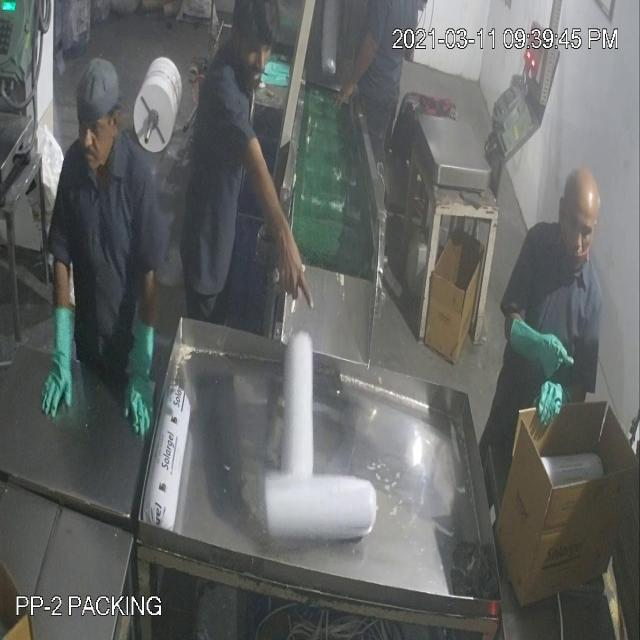gloves: (508, 313, 576, 387), (123, 318, 159, 444), (41, 300, 76, 418)
no-gloves: (240, 138, 318, 314), (336, 26, 380, 114)
